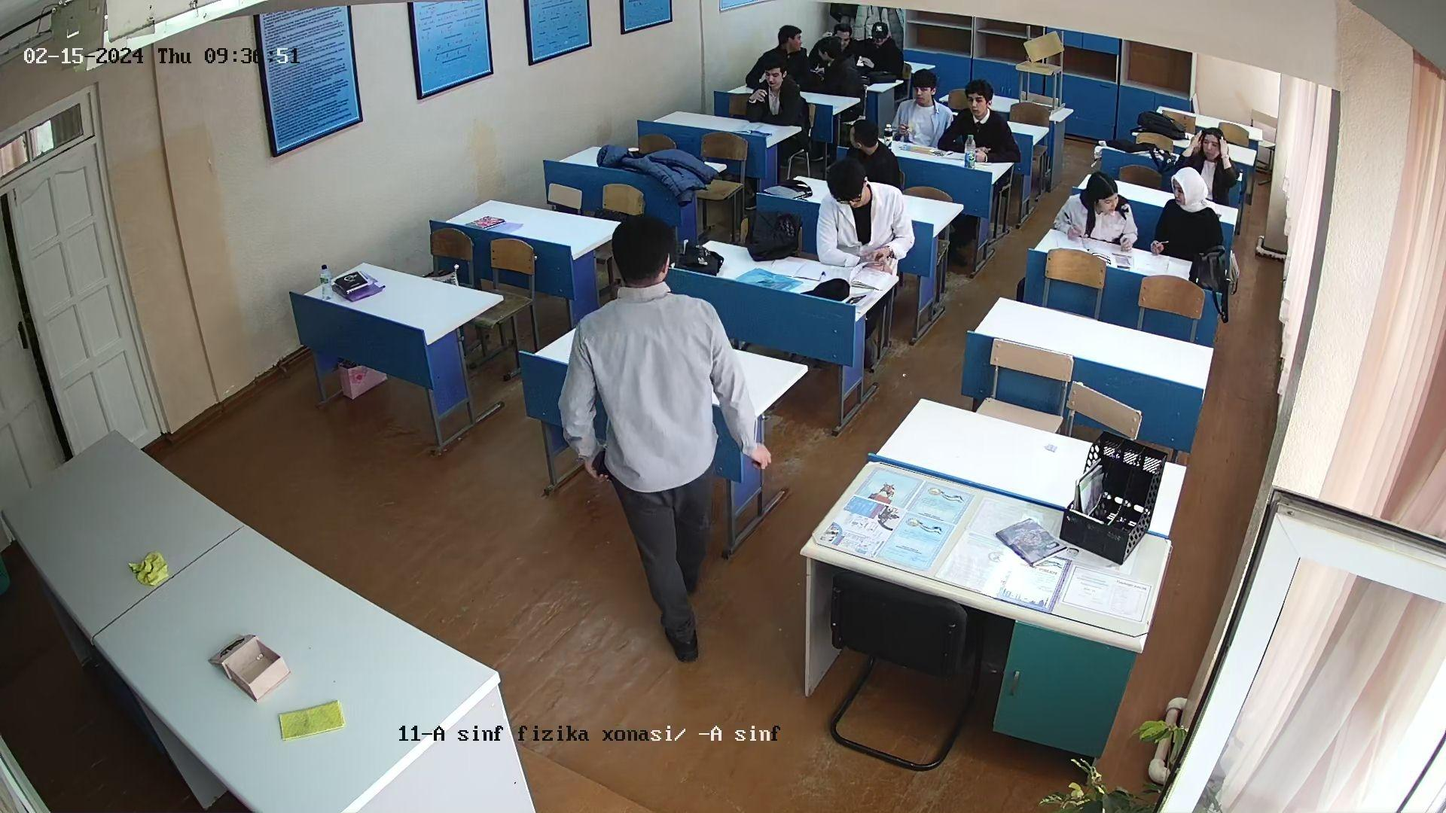Look Around: (1148, 165, 1221, 258), (1076, 171, 1139, 252), (842, 116, 885, 167), (762, 24, 806, 58), (819, 37, 843, 95), (827, 24, 854, 46)
Normal: (953, 78, 1014, 168), (893, 71, 942, 143), (862, 20, 906, 77)
Stand Up: (583, 218, 735, 655)
Wave: (1218, 137, 1241, 178), (747, 84, 767, 123), (1184, 127, 1201, 167)
phone: (750, 62, 807, 130)
